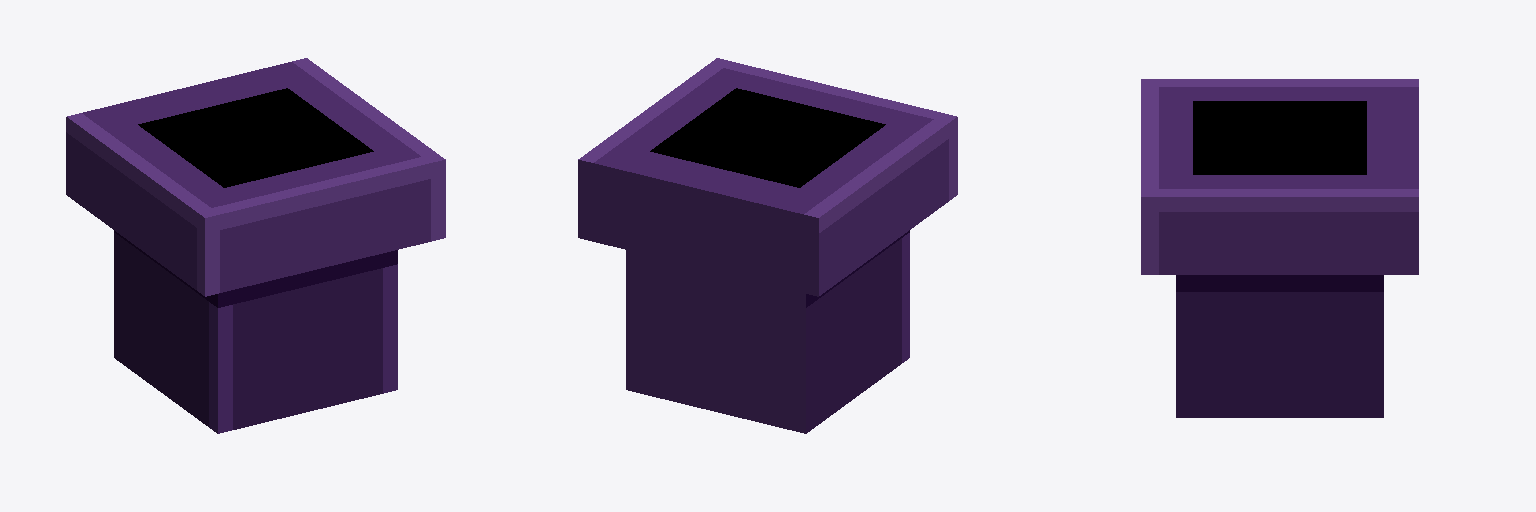
3 views of the same model, side by side, from view 1: azimuth 30°, elevation 25°; view 2: azimuth 150°, elevation 25°; view 3: azimuth 270°, elevation 25° (orthographic).
Parts seen in each view (by area): view 1: cuboid; view 2: cuboid; view 3: cuboid.
Boxes of the visible parts, <box> form: cuboid: <box>66,58,445,433</box>; cuboid: <box>578,58,957,433</box>; cuboid: <box>1141,79,1418,417</box>.
Bounding box in the file's own units: 1 × 0.9375 × 1.
Materials: 1 (1 with a texture image).